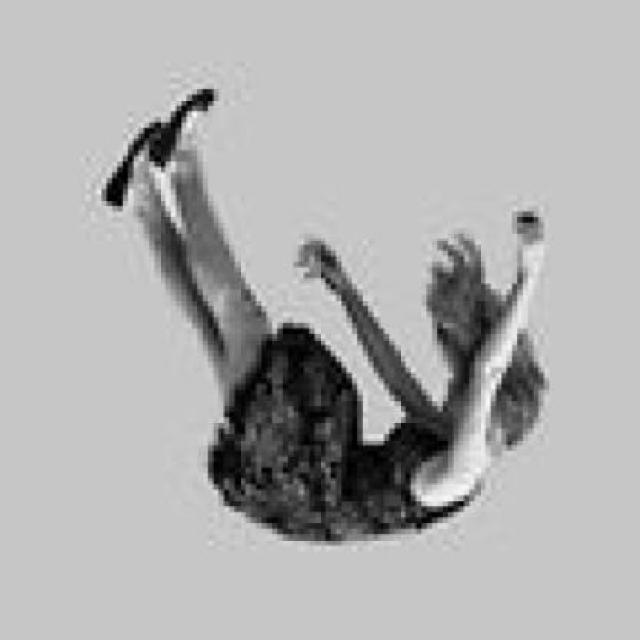fall: (100, 82, 548, 540)
